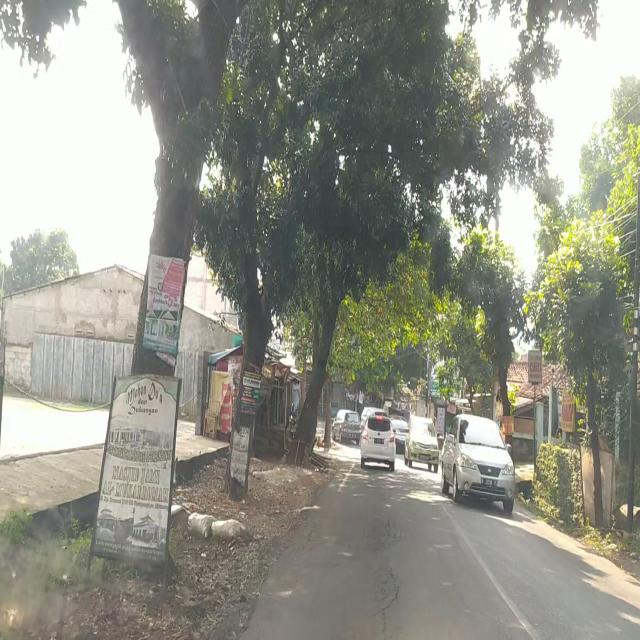Drain Hole: (368, 561, 400, 634), (370, 512, 404, 556)
